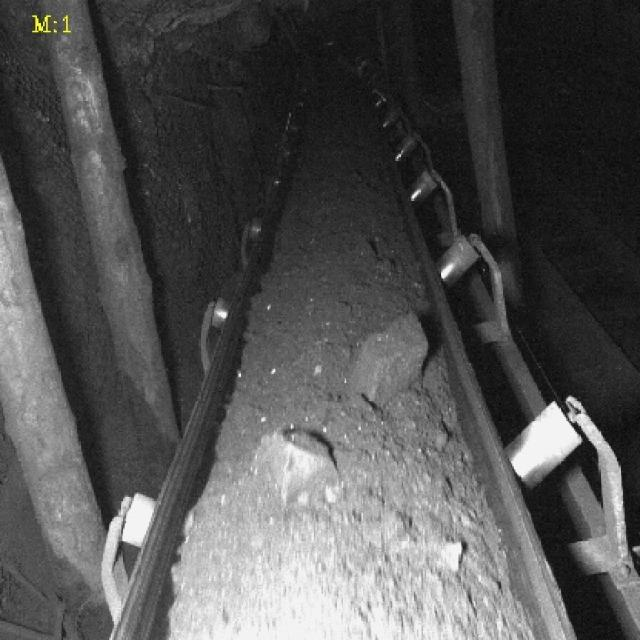large_sized_coal: (355, 314, 428, 411), (255, 432, 337, 510)
